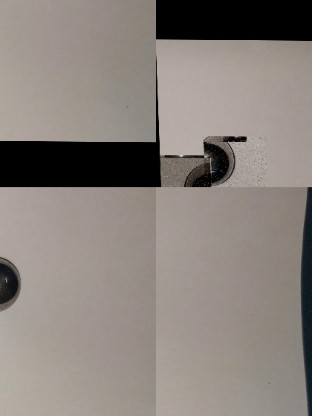ironball: (201, 136, 266, 187), (158, 156, 210, 187), (0, 251, 26, 311)
